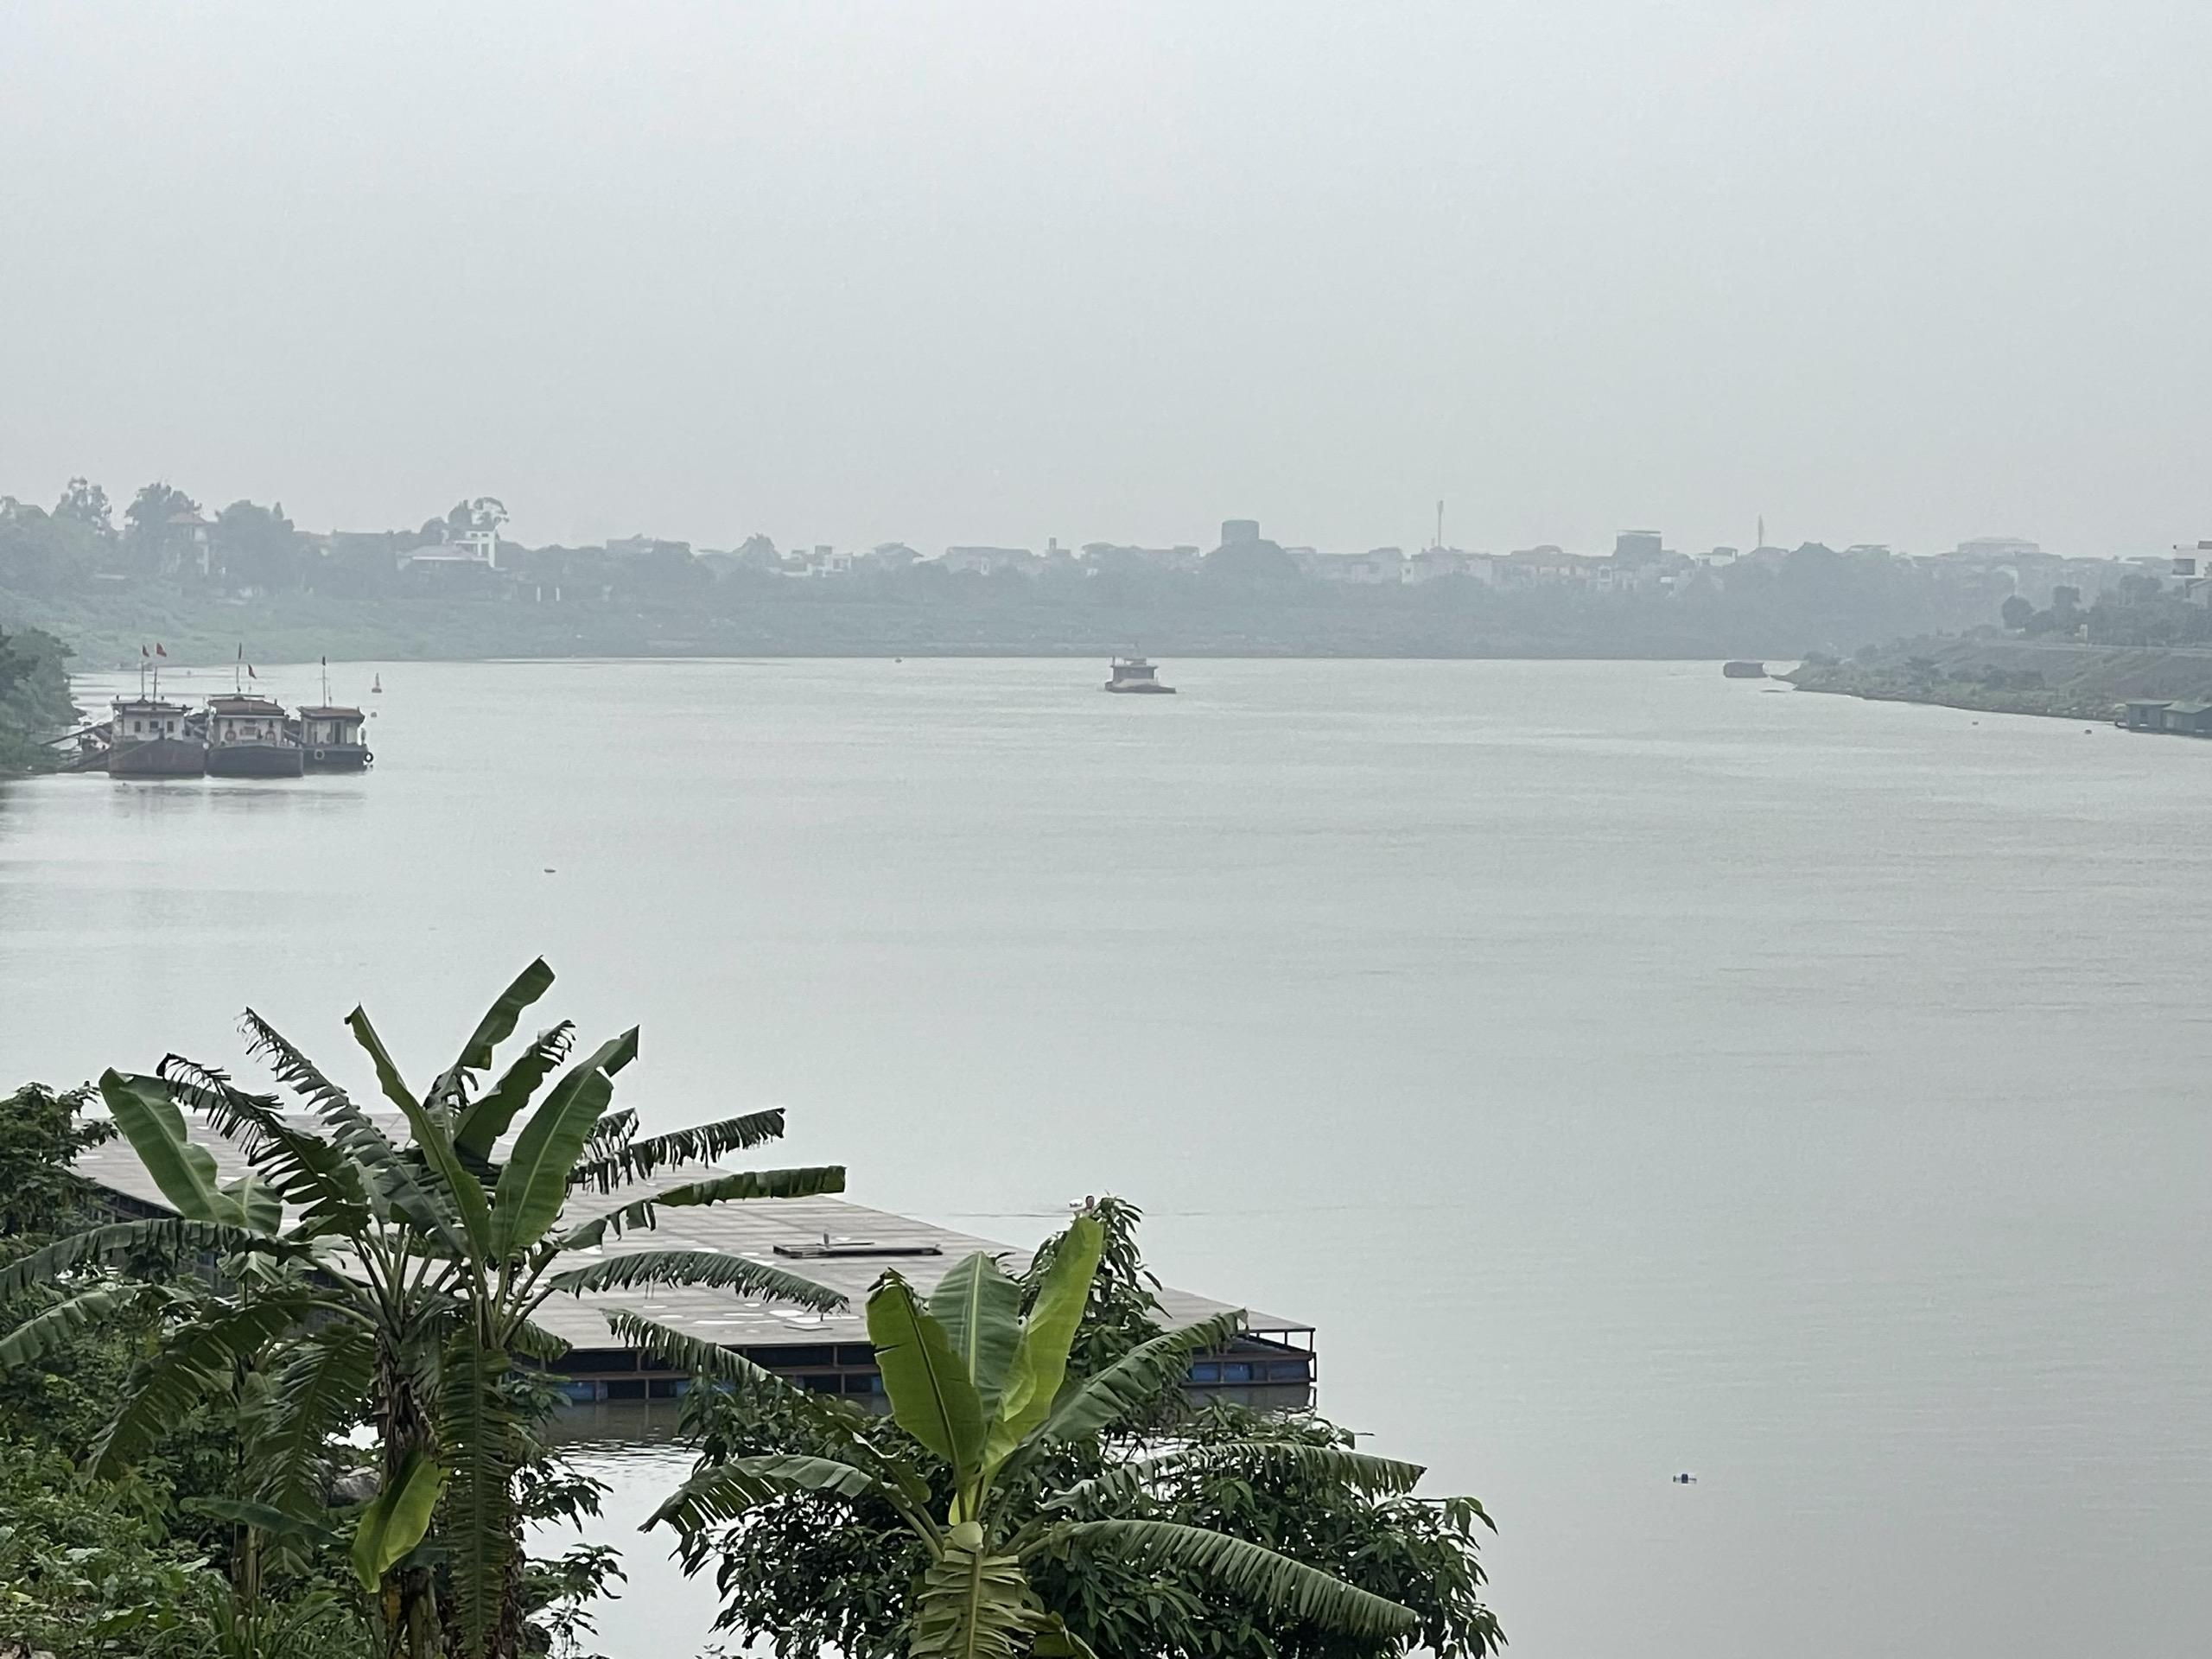Ship: (94, 678, 212, 782), (212, 685, 303, 782), (307, 695, 380, 781), (1090, 643, 1181, 704)
